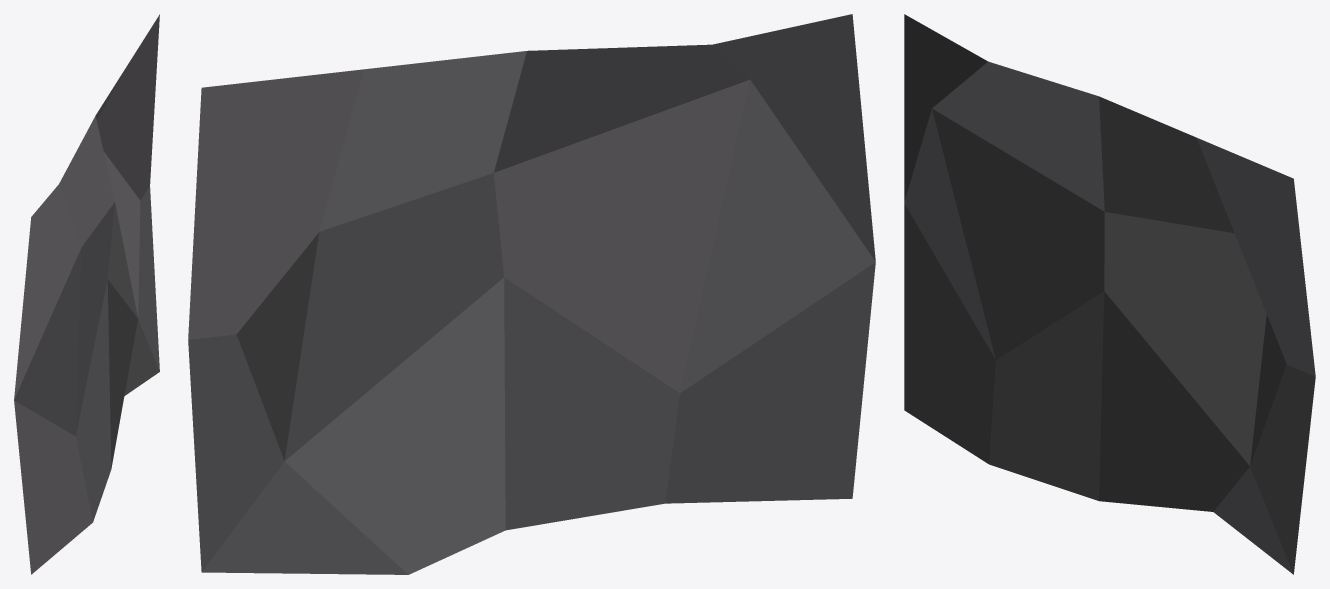
File: mesh_nature_cliff_bottomcorner_inverted_02_01.fbx
3 renders of one model, left to right at view 1: azimuth 30°, elevation 25°; view 2: azimuth 150°, elevation 25°; view 3: azimuth 270°, elevation 25°, orthographic. The views are drawn at different scales.
Visible parts, largest first — view 1: mesh_nature_cliff_bottomcorner_inverted_02_01; view 2: mesh_nature_cliff_bottomcorner_inverted_02_01; view 3: mesh_nature_cliff_bottomcorner_inverted_02_01.
Part boxes in pixels (x1,y1,x2,y2): mesh_nature_cliff_bottomcorner_inverted_02_01: (14, 14, 159, 574); mesh_nature_cliff_bottomcorner_inverted_02_01: (188, 14, 875, 574); mesh_nature_cliff_bottomcorner_inverted_02_01: (904, 14, 1315, 574).
Size of the model in its own units: 188 by 200 by 188.
